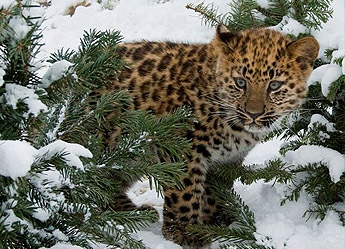amur_leopard: (83, 21, 319, 245)
